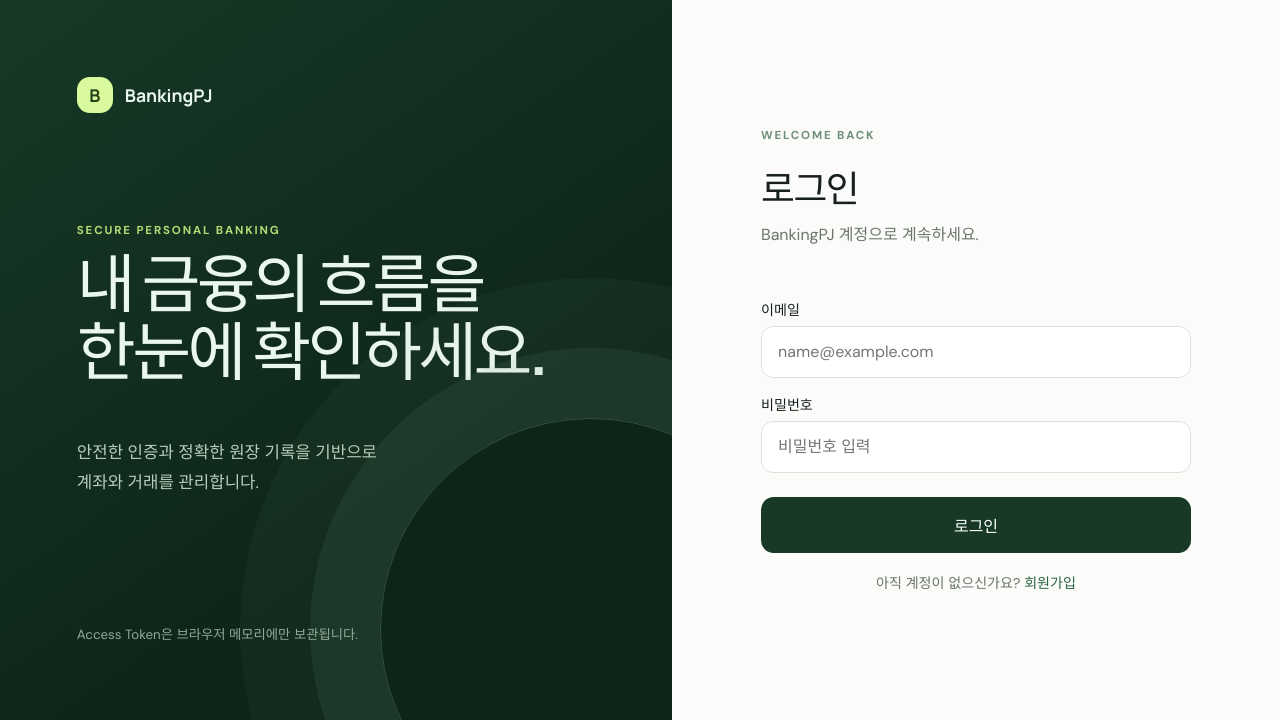
Frontend 회원가입 흐름 › Login에서 Signup으로 이동한다
Click the link "회원가입" at (1050, 583), box [1024,574,1076,592]
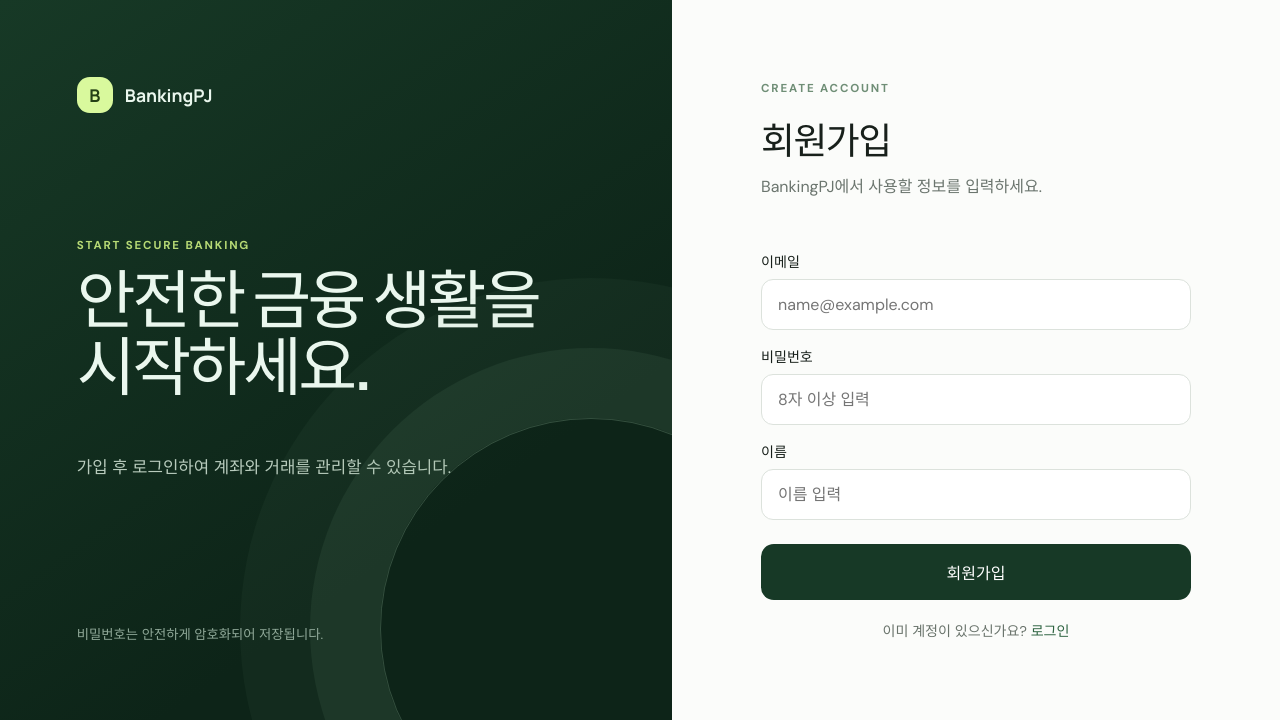
Check: the heading "회원가입" is shown, box [761,115,890,165]
